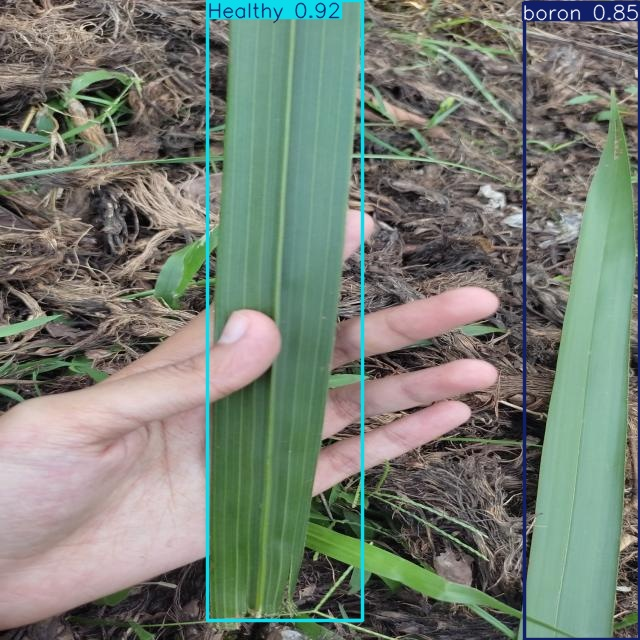Healthy: (208, 0, 363, 621)
nitrogen: (525, 2, 639, 639)
